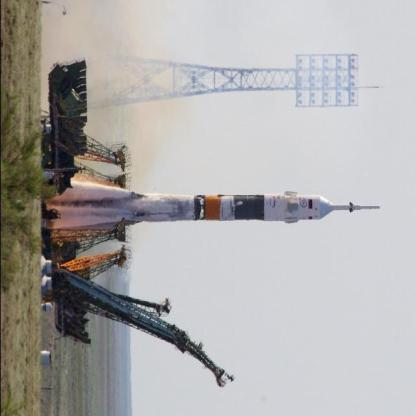MIL_TBM: (149, 192, 337, 223)
